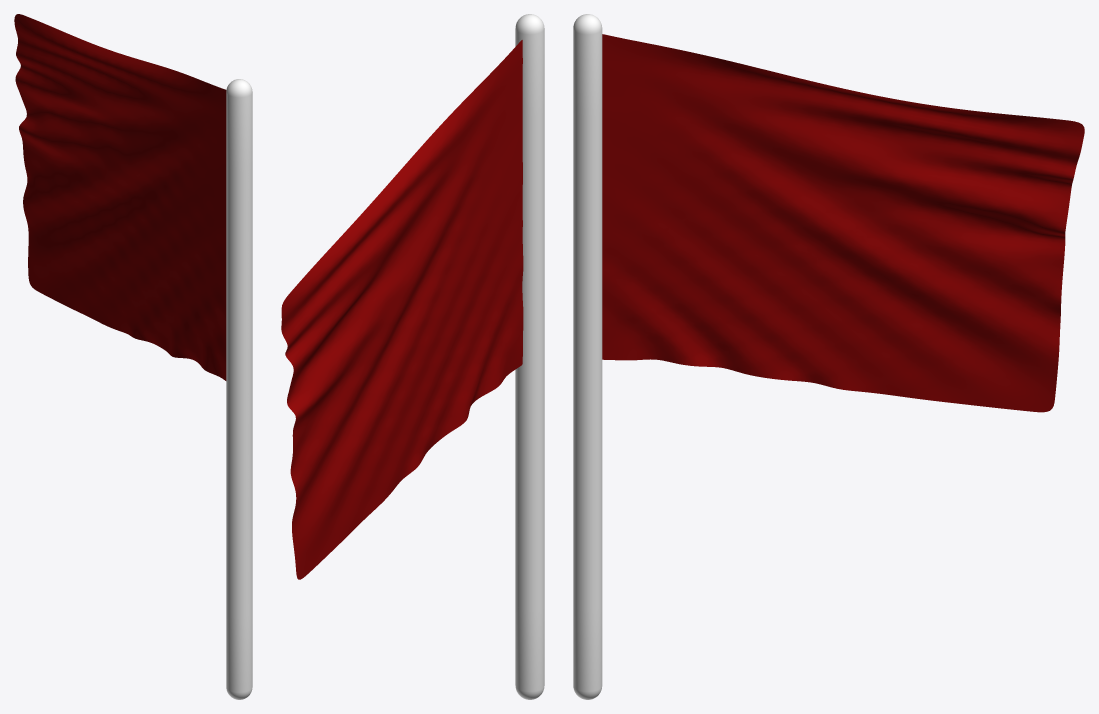
The model's file is Flag.fbx.
3 views of the same model, side by side, from view 1: azimuth 30°, elevation 25°; view 2: azimuth 150°, elevation 25°; view 3: azimuth 270°, elevation 25° (orthographic). The views are drawn at different scales.
Parts seen in each view (by area): view 1: Subdivision_Surface_1, Capsule; view 2: Subdivision_Surface_1, Capsule; view 3: Subdivision_Surface_1, Capsule.
Part boxes in pixels (<box>): Subdivision_Surface_1: <box>14,14,226,380</box>; Capsule: <box>226,79,252,699</box>; Subdivision_Surface_1: <box>281,40,523,579</box>; Capsule: <box>515,14,544,699</box>; Subdivision_Surface_1: <box>602,34,1084,412</box>; Capsule: <box>573,14,602,699</box>.
Bounding box in the file's own units: 24 × 622 × 422.
